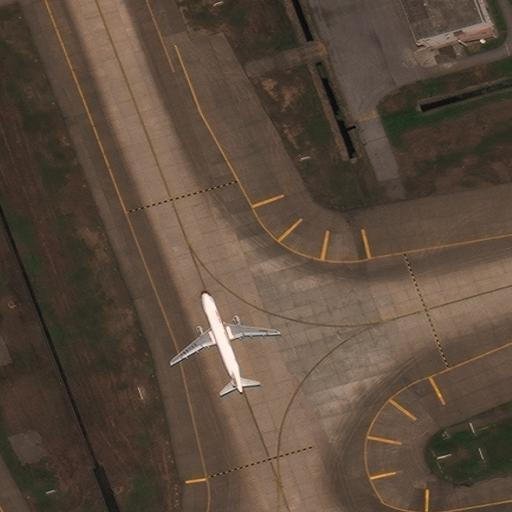Medium Civil Transport: (170, 291, 276, 392)
